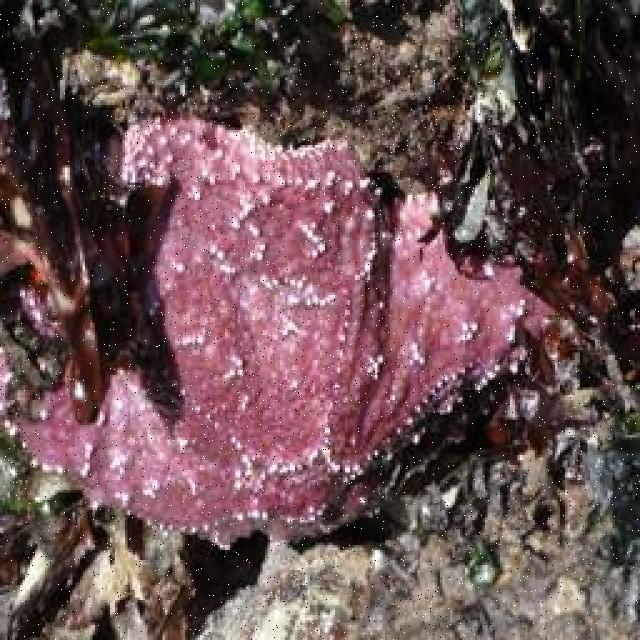reefs: (0, 89, 565, 550)
